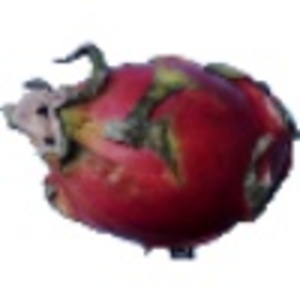pitaia: (1, 39, 300, 262)
